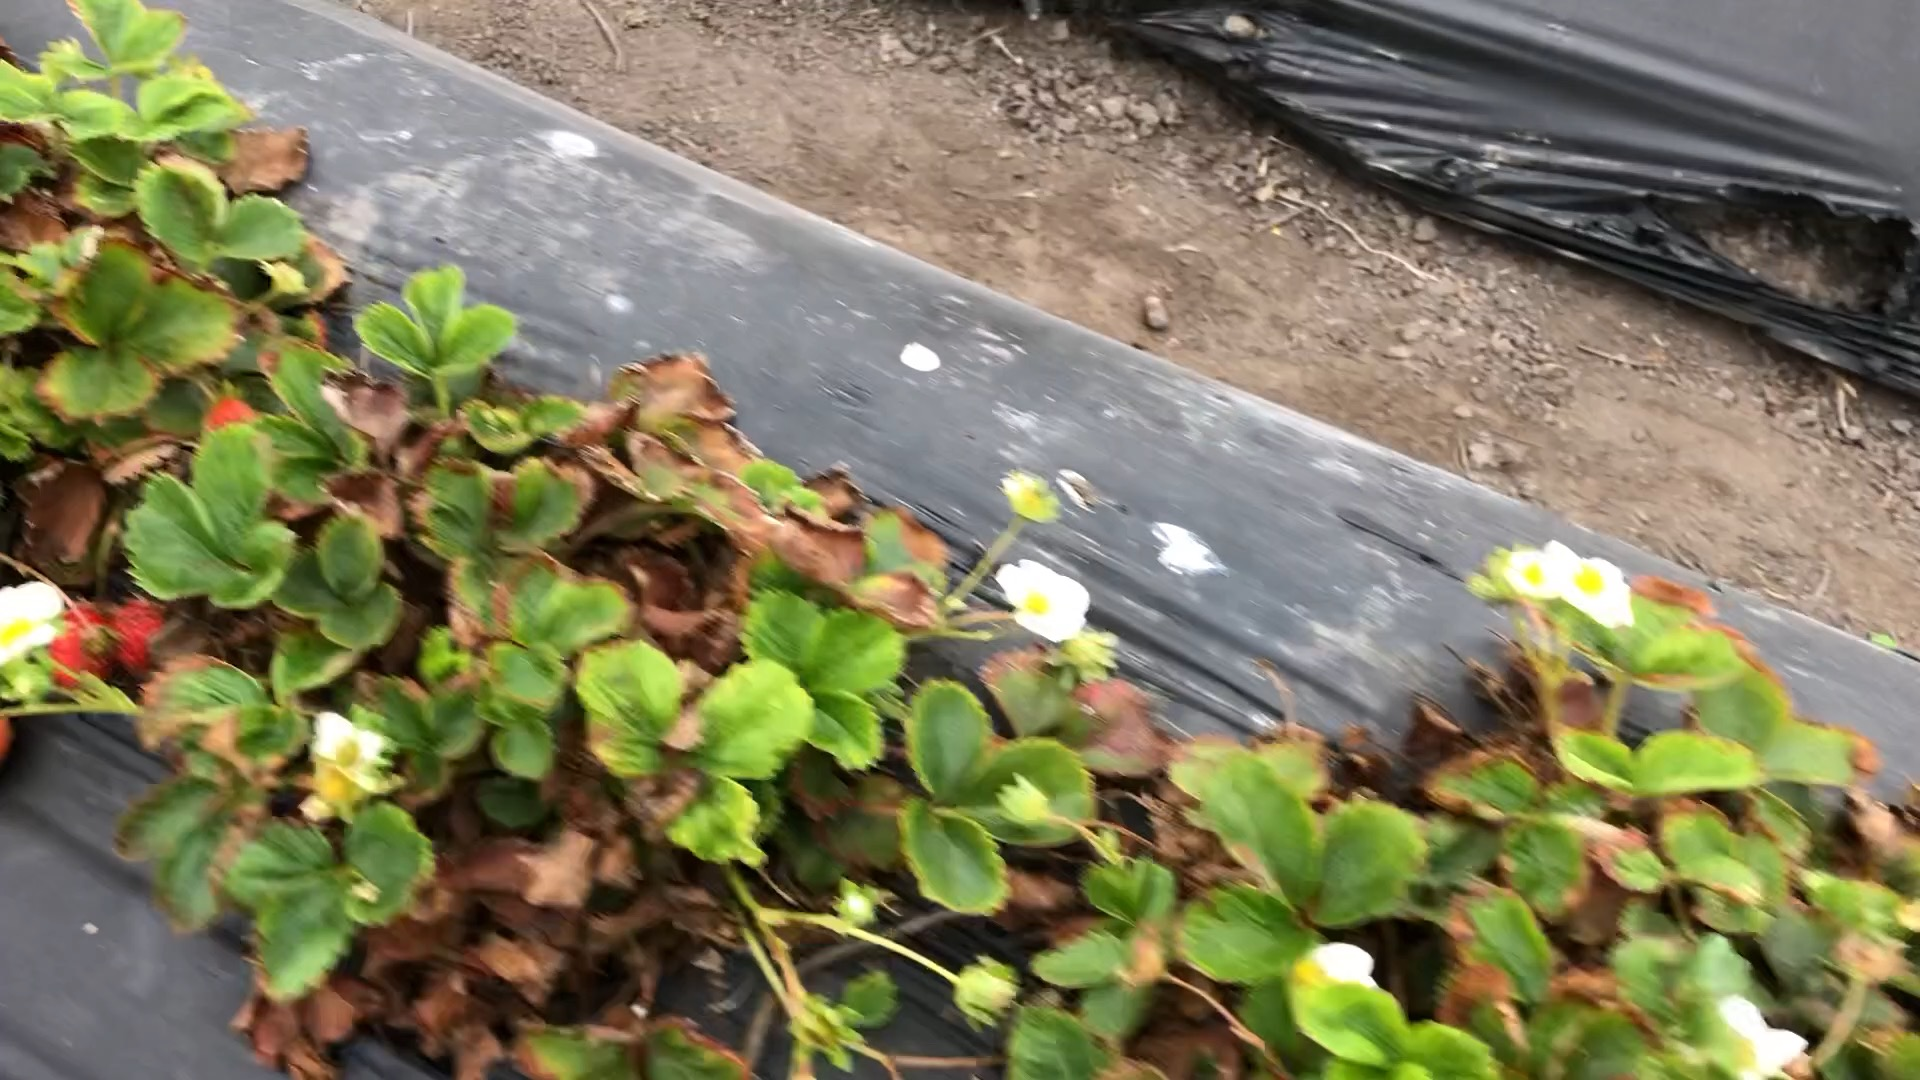ripe_strawberry: (44, 597, 111, 694), (107, 593, 170, 680), (199, 392, 258, 434)
